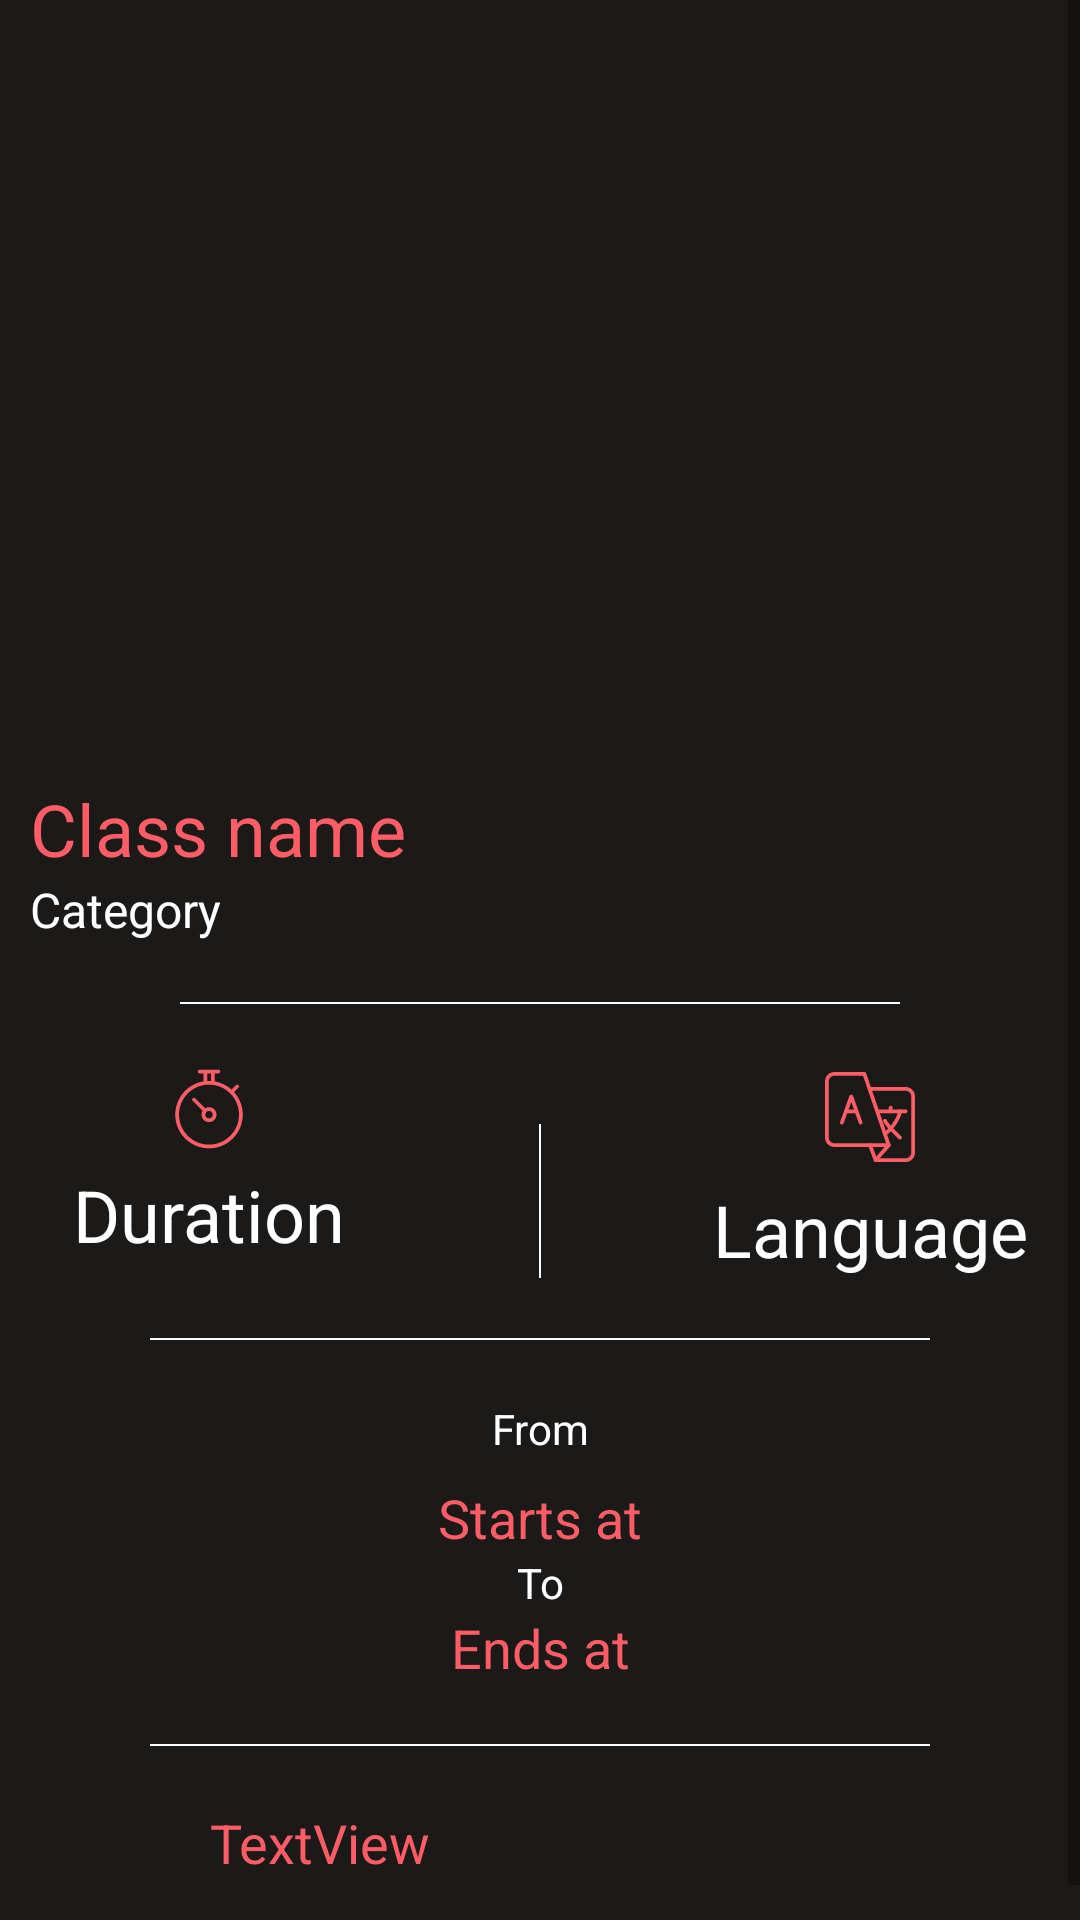

Icon click points for this 1080×1920 phone screenshot, format point (x, y):
stopwatch: point (209, 1109)
